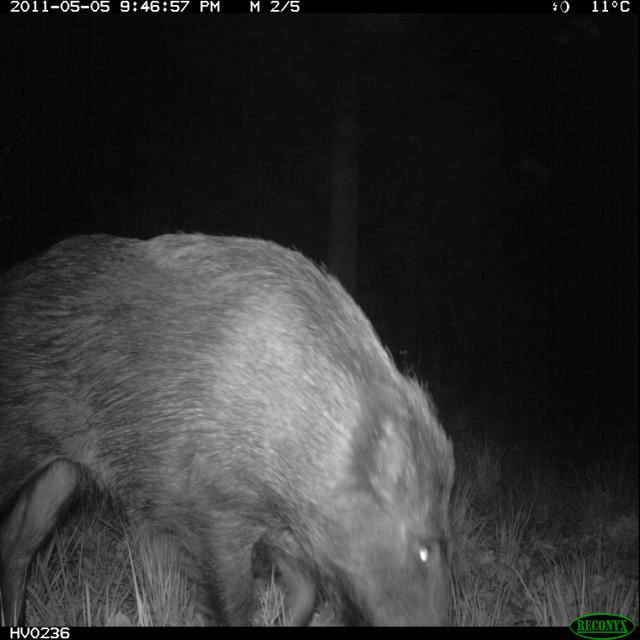boar: (0, 192, 463, 637)
